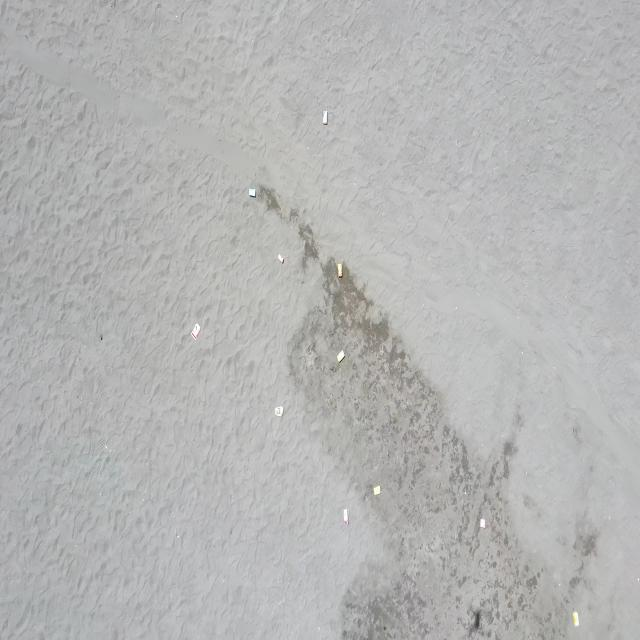retort-pouch: (189, 323, 202, 339), (274, 404, 284, 418), (571, 613, 580, 628), (336, 350, 346, 363), (342, 508, 350, 524), (372, 485, 382, 497), (248, 186, 258, 198), (322, 110, 329, 125), (338, 266, 346, 279), (277, 253, 286, 263), (480, 519, 488, 529)
